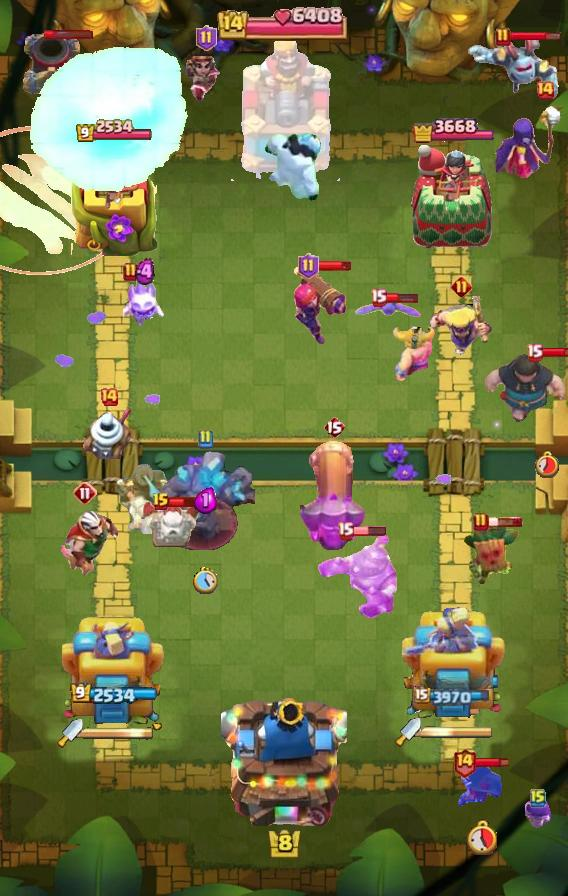arrows: (428, 295, 494, 356)
axe: (492, 101, 568, 181)
bar: (399, 607, 507, 731), (62, 611, 166, 731)
barbarian: (354, 294, 424, 320)
bomber-evolution: (184, 56, 228, 104)
cannoneer-tower: (155, 450, 255, 550)
clock: (217, 6, 351, 40)
electro-spirit: (194, 487, 217, 514), (135, 258, 155, 286)
elixir: (467, 819, 498, 855), (535, 450, 562, 478), (193, 566, 218, 593)
elixir-golem-small: (466, 35, 562, 101)
emote: (509, 31, 563, 42), (44, 28, 94, 39), (168, 496, 205, 509), (474, 755, 509, 768), (316, 260, 352, 272), (487, 516, 523, 528), (351, 525, 387, 537), (386, 292, 419, 304), (540, 346, 568, 358)
furnace: (300, 438, 368, 550)
goblin: (525, 797, 551, 831)
goblin-barrel: (462, 521, 520, 589)
goblin-drill: (82, 399, 136, 459)
goblin-giant: (391, 325, 435, 381)
ice-wizard: (0, 125, 134, 274)
inferno-dragon: (114, 458, 172, 534)
king-tower: (221, 690, 347, 826), (228, 41, 340, 181)
king-tower-bar: (421, 725, 493, 739), (83, 726, 155, 740)
mega-knight: (25, 46, 191, 196)
mega-minion: (290, 262, 350, 348)
mini-pekka: (139, 499, 203, 547)
mirror: (123, 274, 167, 328)
musketeer: (20, 31, 84, 97)
queen-tower: (71, 144, 157, 255), (410, 144, 496, 255)
rage: (262, 132, 326, 204)
royal-guardian: (318, 529, 398, 621)
royal-hog: (482, 354, 568, 430)
selected: (412, 115, 494, 147), (70, 683, 158, 706), (75, 119, 153, 144), (414, 686, 492, 706)
skeleton-king: (52, 510, 118, 580)
tesla: (454, 764, 508, 806)
text: (451, 746, 476, 777), (73, 481, 97, 505), (195, 25, 217, 51), (297, 253, 318, 279), (323, 415, 345, 439), (451, 275, 472, 296), (535, 80, 555, 100), (99, 387, 119, 407), (152, 492, 170, 512), (369, 288, 387, 307), (525, 343, 543, 361), (337, 521, 355, 539), (495, 27, 511, 47), (123, 262, 139, 282), (197, 429, 213, 449), (473, 512, 489, 532), (530, 788, 546, 808)
